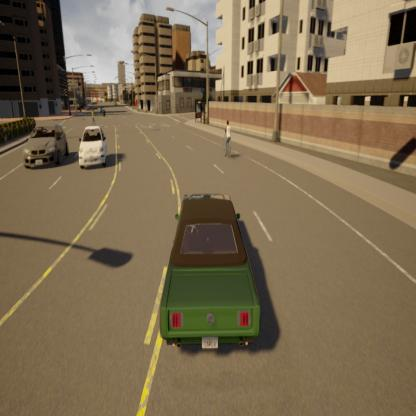Cars: (147, 183, 270, 361), (22, 115, 72, 172), (75, 109, 112, 174)
Pedestrian: (87, 103, 98, 128)
